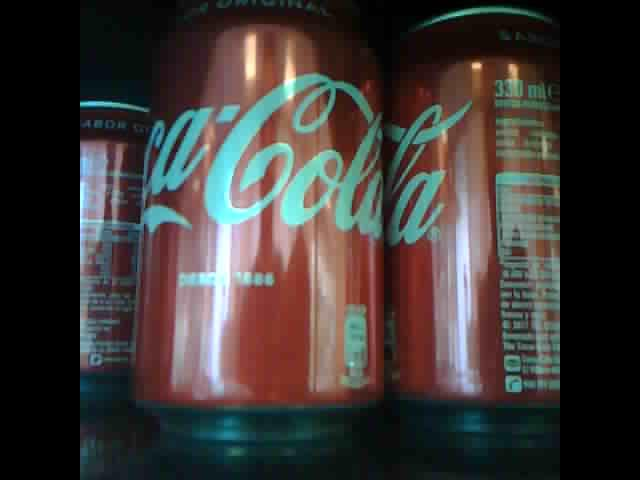coca cola: (135, 2, 385, 437), (390, 4, 559, 429), (80, 95, 149, 410)
